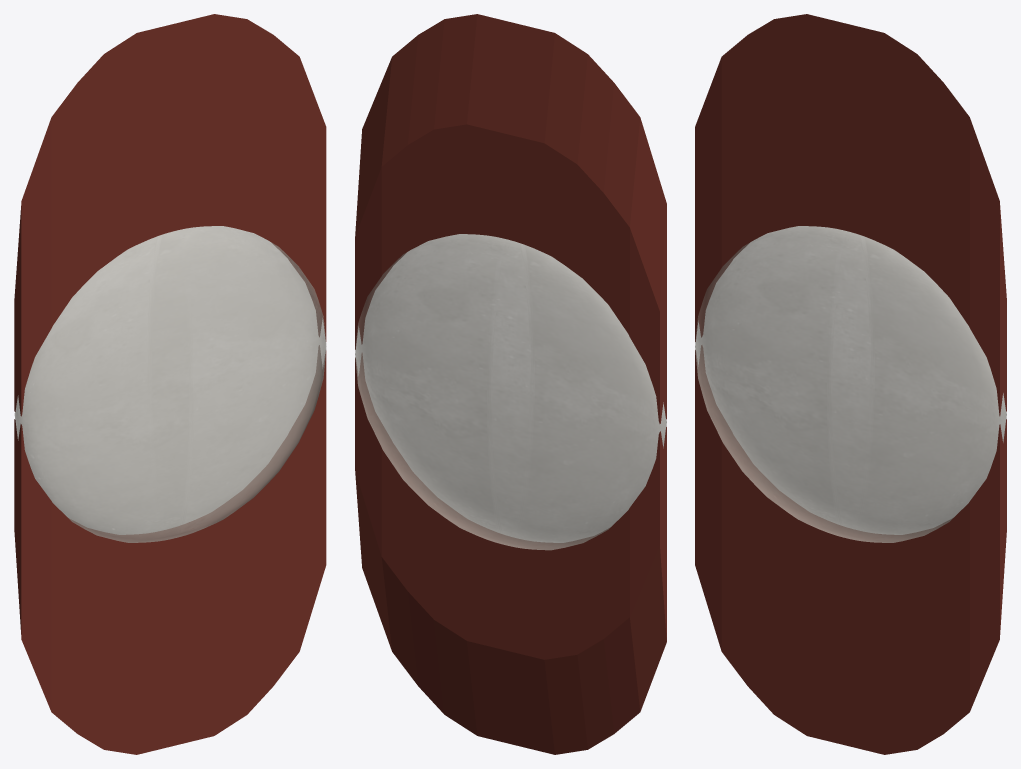
Rendered from cristallin.glb.
3 views of the same model, side by side, from view 1: azimuth 30°, elevation 25°; view 2: azimuth 150°, elevation 25°; view 3: azimuth 330°, elevation 25° (orthographic).
Parts seen in each view (by area): view 1: ligamentcristallin, cristallin; view 2: ligamentcristallin, cristallin; view 3: ligamentcristallin, cristallin.
Part boxes in pixels (x1,y1,x2,y2): ligamentcristallin: [14, 14, 326, 754]; cristallin: [14, 226, 326, 542]; ligamentcristallin: [355, 14, 666, 754]; cristallin: [355, 234, 666, 550]; ligamentcristallin: [695, 14, 1006, 754]; cristallin: [695, 226, 1006, 542].
Bounding box in the file's own units: 0.3701 × 0.8254 × 0.0882.
2 materials, 1 textured.
